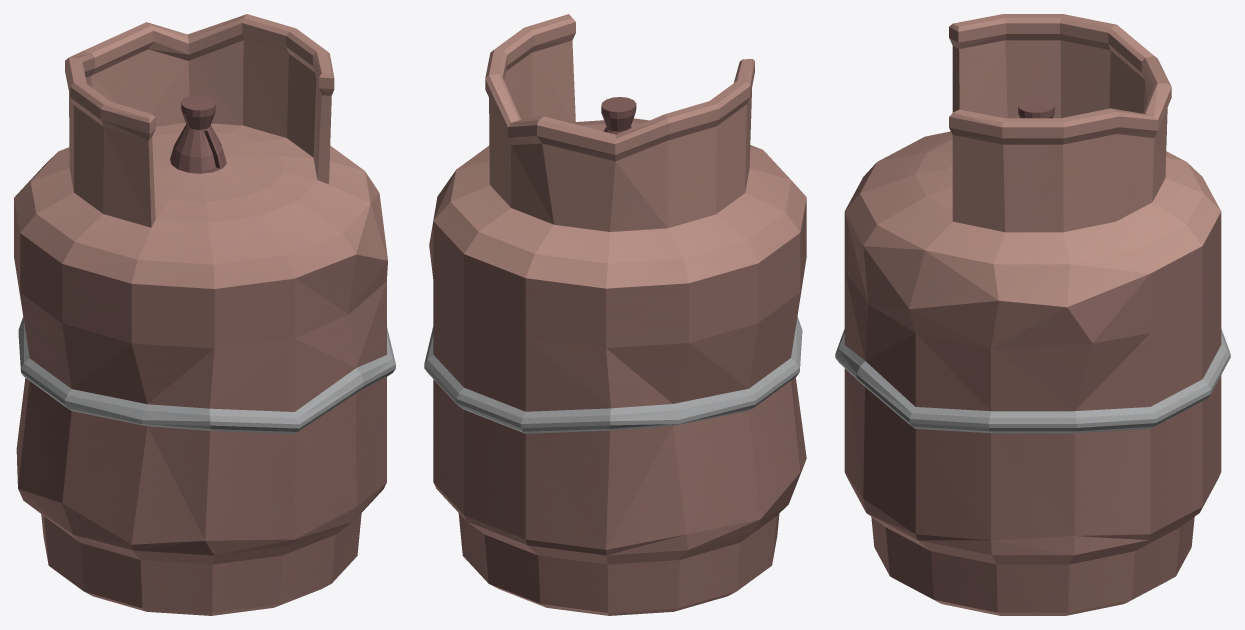
The model's file is propane_tank.obj.
3 renders of one model, left to right at view 1: azimuth 30°, elevation 25°; view 2: azimuth 150°, elevation 25°; view 3: azimuth 270°, elevation 25°, orthographic.
Parts seen in each view (by area): view 1: propane_tank_Mesh; view 2: propane_tank_Mesh; view 3: propane_tank_Mesh.
Part boxes in pixels (x1,y1,x2,y2): propane_tank_Mesh: (14, 14, 395, 615); propane_tank_Mesh: (424, 14, 806, 615); propane_tank_Mesh: (835, 14, 1230, 615).
Bounding box in the file's own units: 0.6793 × 0.9688 × 0.7121.
